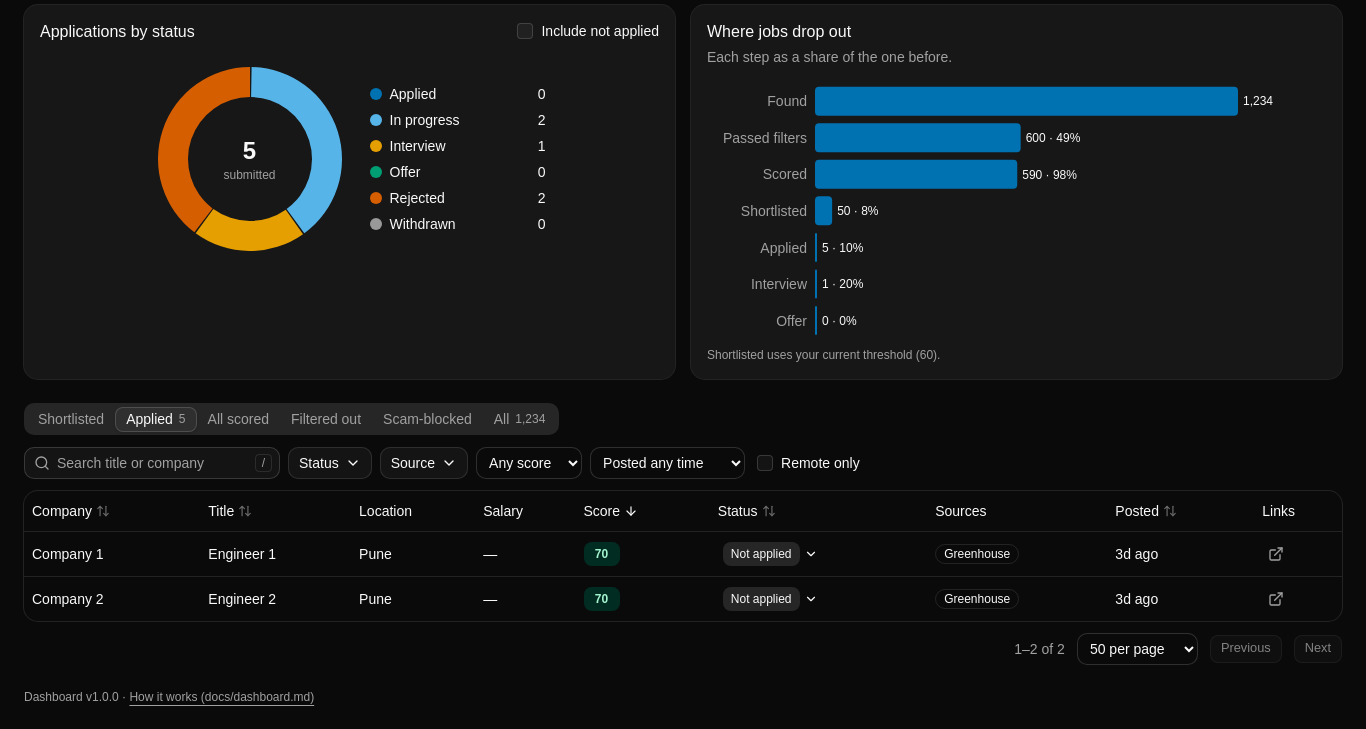
it: JobDrawer: opening and closing › opens beside the table when a row is clicked, with the job header
(page scrolled)
What coordinates should you click on to do the following:
click the button "Engineer 2"
I would click on:
 (242, 598)
Its box is [208, 588, 276, 608].
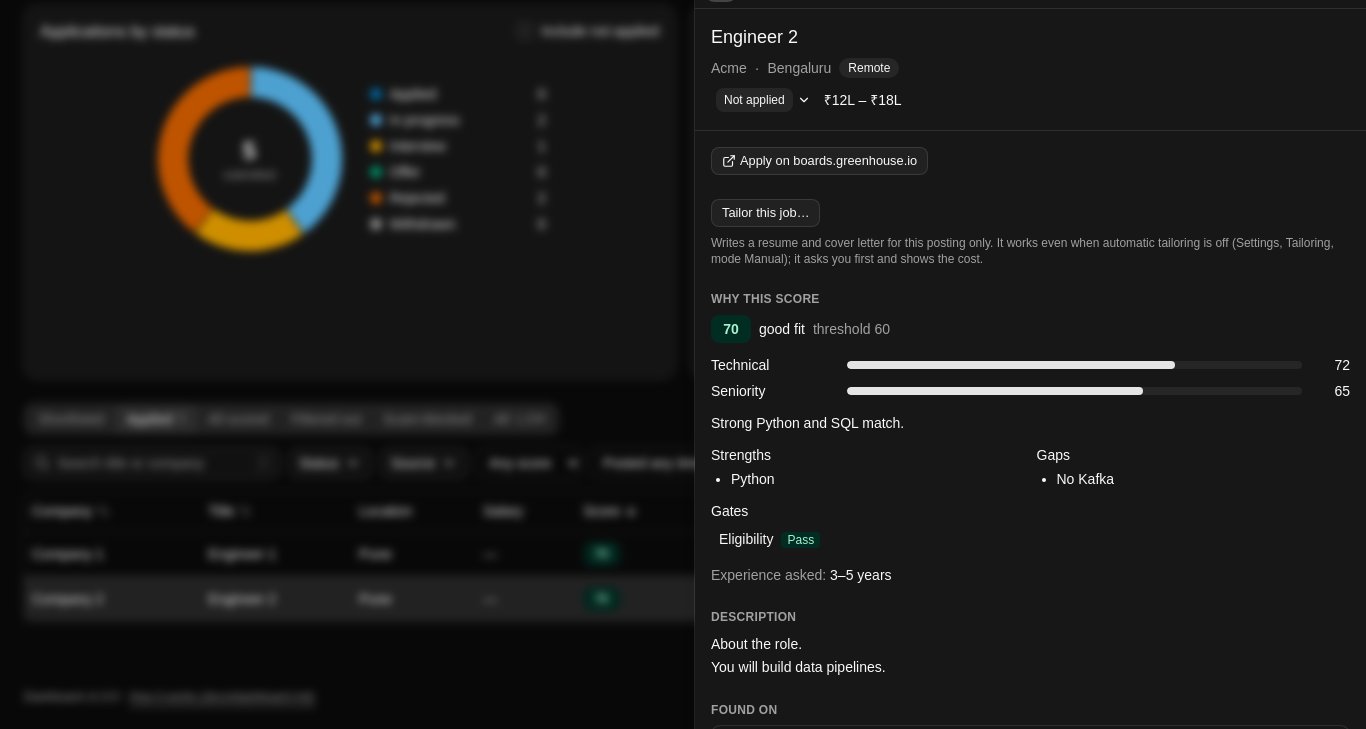
expect the text "Acme" is shown: met, box [711, 58, 747, 78]
expect the text "Bengaluru" is shown: met, box [768, 58, 831, 78]
expect the text "Remote" is shown: met, box [839, 58, 899, 78]
